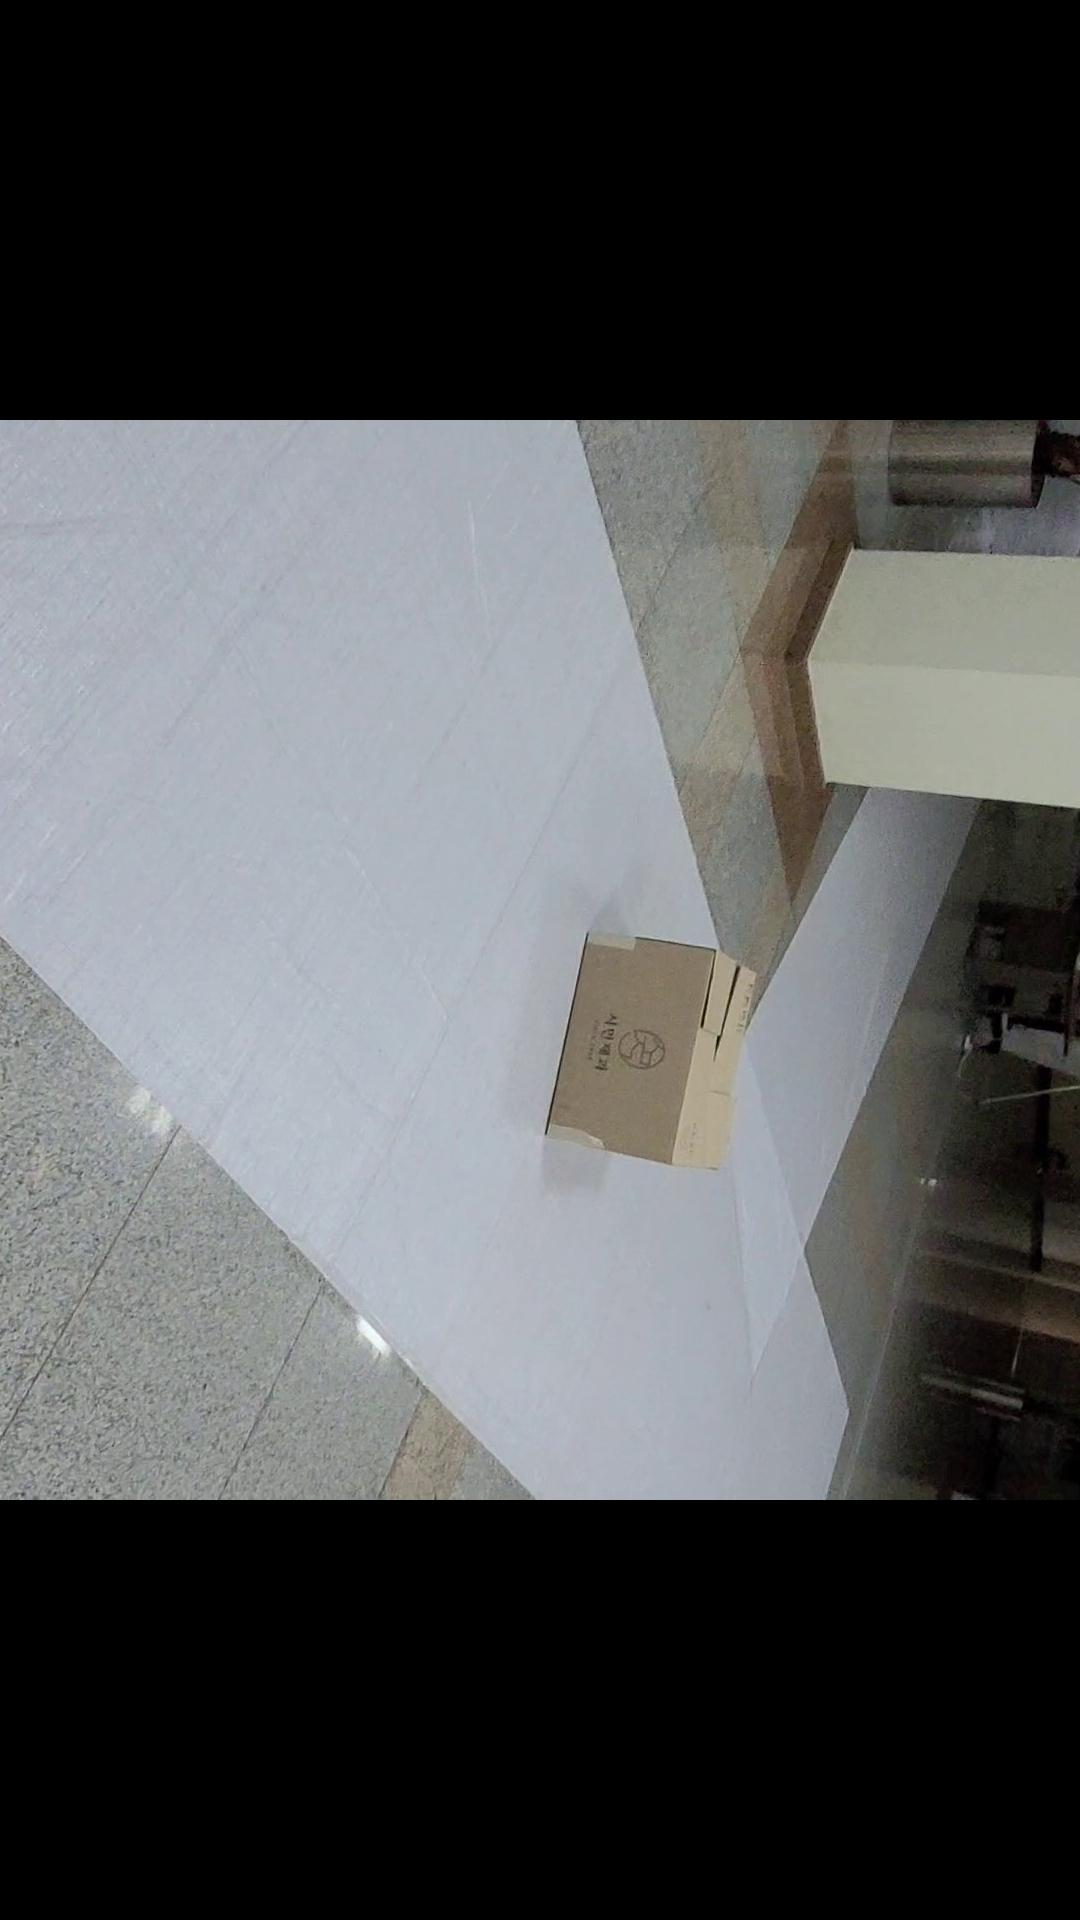Box: (505, 891, 795, 1230)
